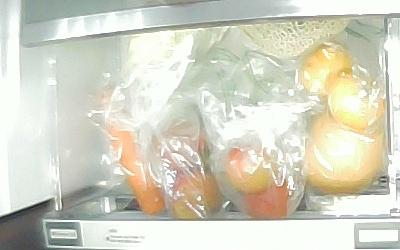cabbage: (128, 29, 209, 76)
carrot_vinyl: (99, 91, 166, 215)
melon: (233, 18, 354, 57)
pear_vinyl: (304, 111, 387, 194)
prune_vinyl: (172, 162, 222, 220), (224, 142, 278, 191), (244, 175, 291, 219)
tangerine_vinyl: (329, 67, 385, 133), (298, 43, 353, 95)
